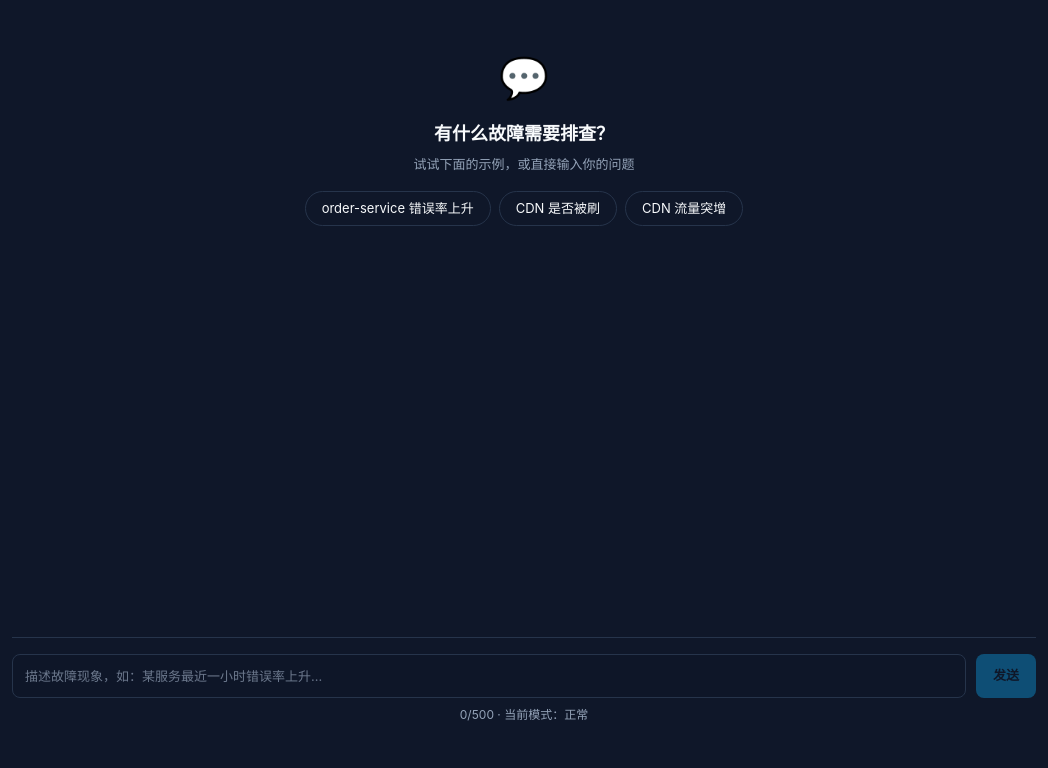
ChatPanel（原型 chat.html 口径） › 输入条：placeholder / 500 上限 / 字数与模式提示（正常）
The width and height of the screenshot is (1048, 768).
Expected: the element with class "chat-hint" shows "0/500", [460, 707, 494, 722]
Expected: the element with class "chat-hint" shows "当前模式：", [494, 707, 564, 722]
In the field with id "chatInput": [489, 676] box [12, 654, 966, 698], type "abc"
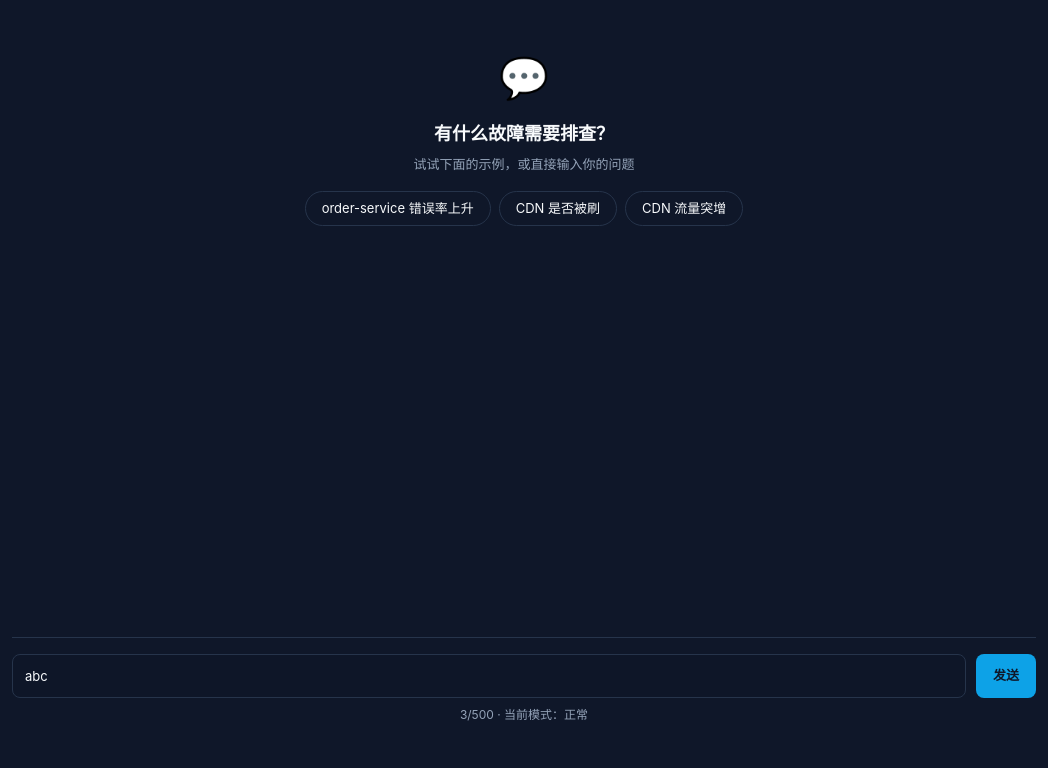
Result: the element with class "chat-hint" shows "3/500" at [460, 707, 494, 722]
